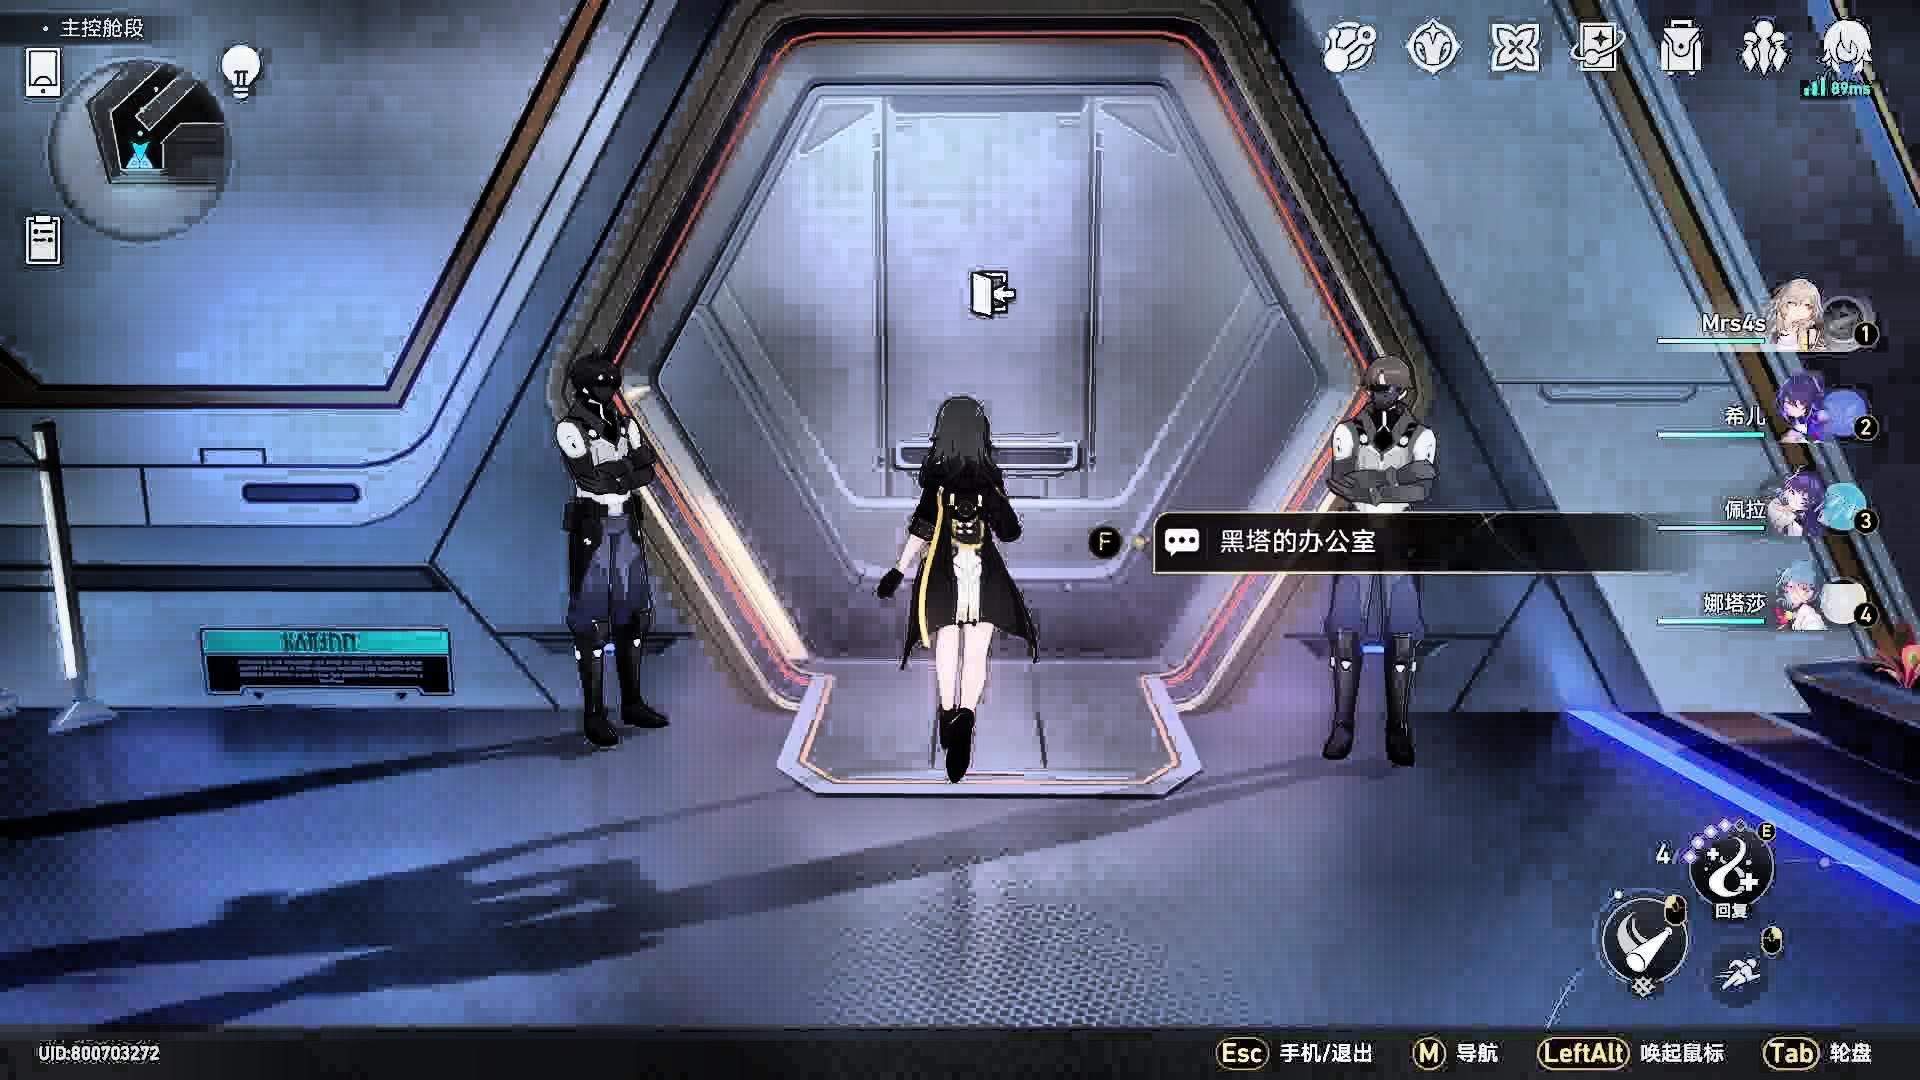Self: (884, 396, 1040, 795)
TeamMate: (531, 352, 673, 756), (1324, 345, 1431, 767)
